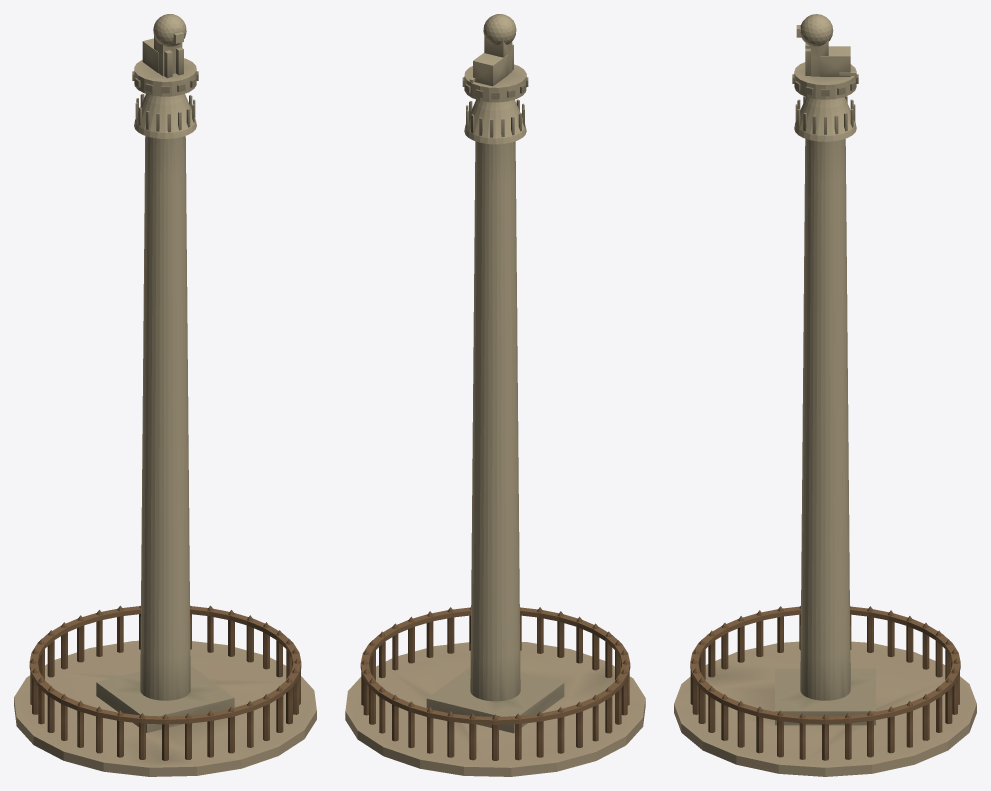
The model's file is ashoka-pillar.glb.
3 renders of one model, left to right at view 1: azimuth 30°, elevation 25°; view 2: azimuth 150°, elevation 25°; view 3: azimuth 270°, elevation 25°, orthographic.
Parts seen in each view (by area): view 1: p0_base, p1_shaft, p2_capital and lion; view 2: p0_base, p1_shaft, p2_capital and lion; view 3: p0_base, p1_shaft, p2_capital and lion.
Part boxes in pixels (bbox=[...]): p0_base: bbox=[14, 605, 316, 776]; p1_shaft: bbox=[140, 136, 190, 700]; p2_capital and lion: bbox=[132, 14, 198, 138]; p0_base: bbox=[345, 607, 645, 776]; p1_shaft: bbox=[470, 141, 520, 701]; p2_capital and lion: bbox=[462, 14, 528, 144]; p0_base: bbox=[674, 606, 976, 776]; p1_shaft: bbox=[800, 138, 850, 700]; p2_capital and lion: bbox=[792, 14, 858, 141].
Size of the model in its own units: 6 by 15.24 by 6.
